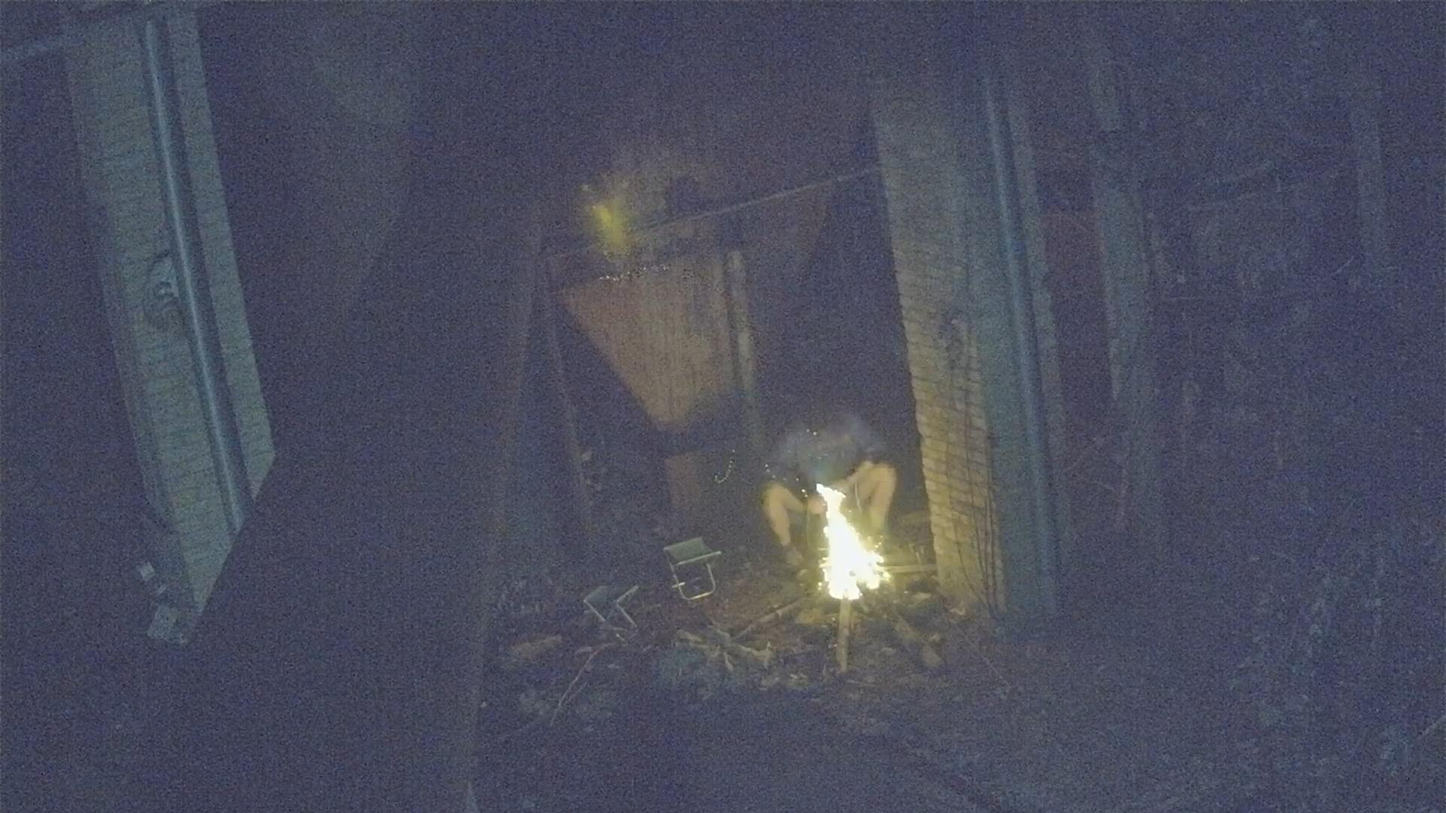fire: (819, 507, 883, 599), (817, 485, 841, 502)
